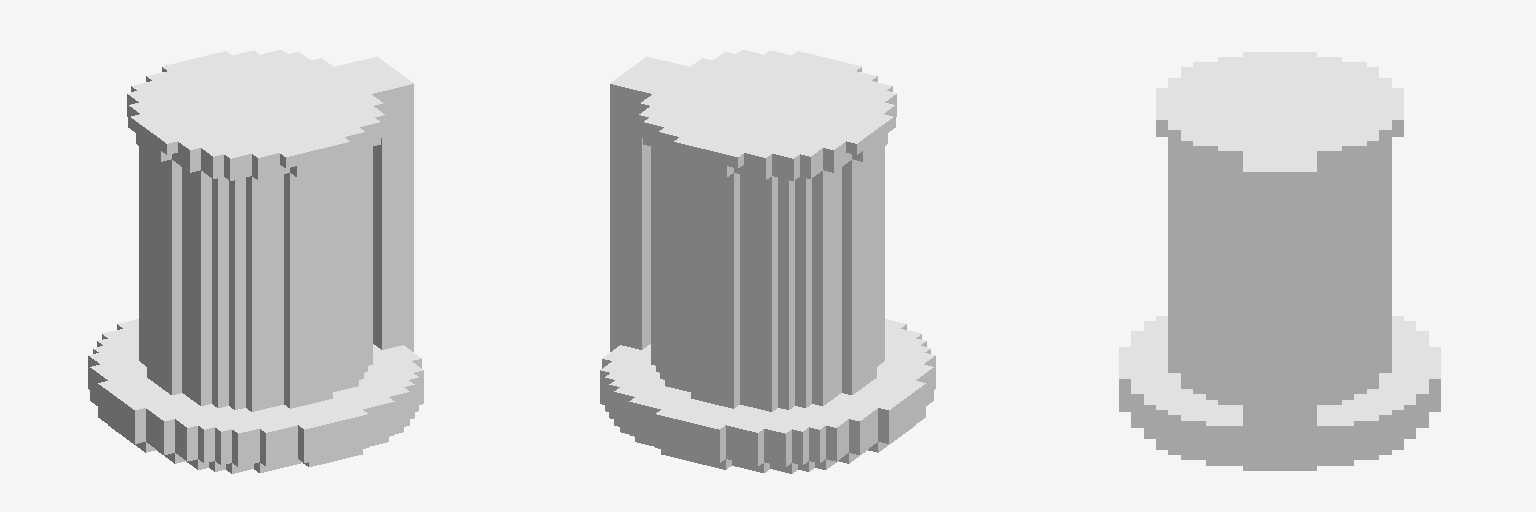
Rendered from ミキサー.obj.
3 views of the same model, side by side, from view 1: azimuth 30°, elevation 25°; view 2: azimuth 150°, elevation 25°; view 3: azimuth 270°, elevation 25° (orthographic).
Parts seen in each view (by area): view 1: object 1; view 2: object 1; view 3: object 1.
Part boxes in pixels (x1,y1,x2,y2): object 1: (88,50,423,473); object 1: (600,50,935,473); object 1: (1119,52,1440,470).
Bounding box in the file's own units: 2.6 × 2.7 × 2.6.